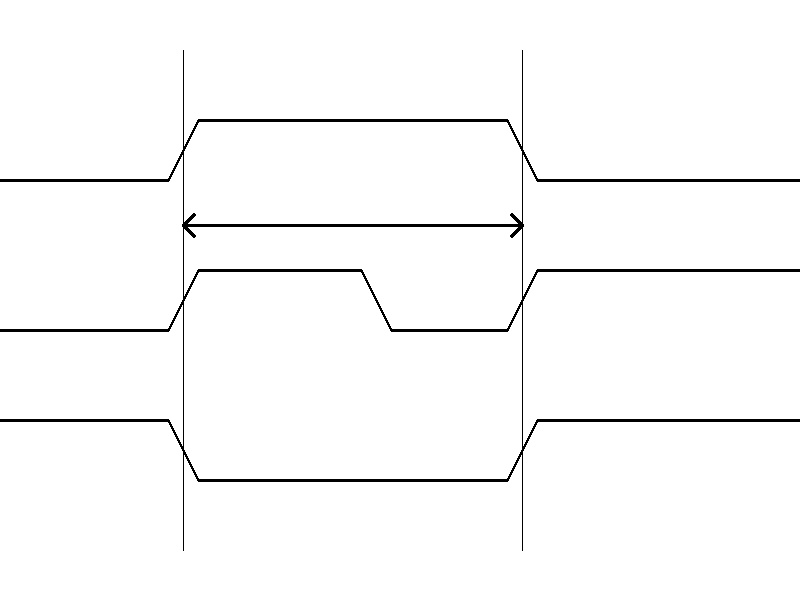double_arrow: (183, 210, 522, 240)
